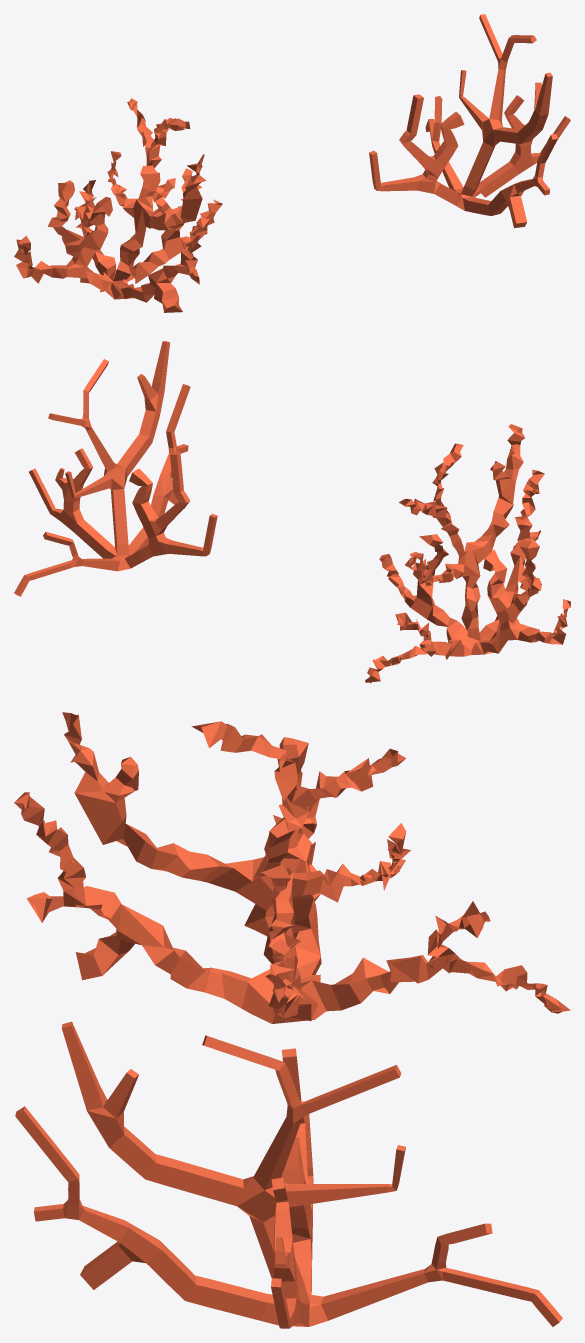
File: CoralSet_03.fbx
The picture shows the model from 3 angles, top to bottom: view 1: azimuth 30°, elevation 25°; view 2: azimuth 150°, elevation 25°; view 3: azimuth 270°, elevation 25°; orthographic projection. The views are drawn at different scales.
Parts seen in each view (by area): view 1: Coral_C_02, Coral_C_01; view 2: Coral_C_02, Coral_C_01; view 3: Coral_C_02, Coral_C_01.
Part boxes in pixels (<box>): Coral_C_02: <box>14,98,222,312</box>; Coral_C_01: <box>369,14,570,228</box>; Coral_C_02: <box>365,424,570,683</box>; Coral_C_01: <box>14,341,217,596</box>; Coral_C_02: <box>14,712,570,1023</box>; Coral_C_01: <box>15,1021,562,1328</box>.
Bounding box in the file's own units: 939 × 299 × 455.
